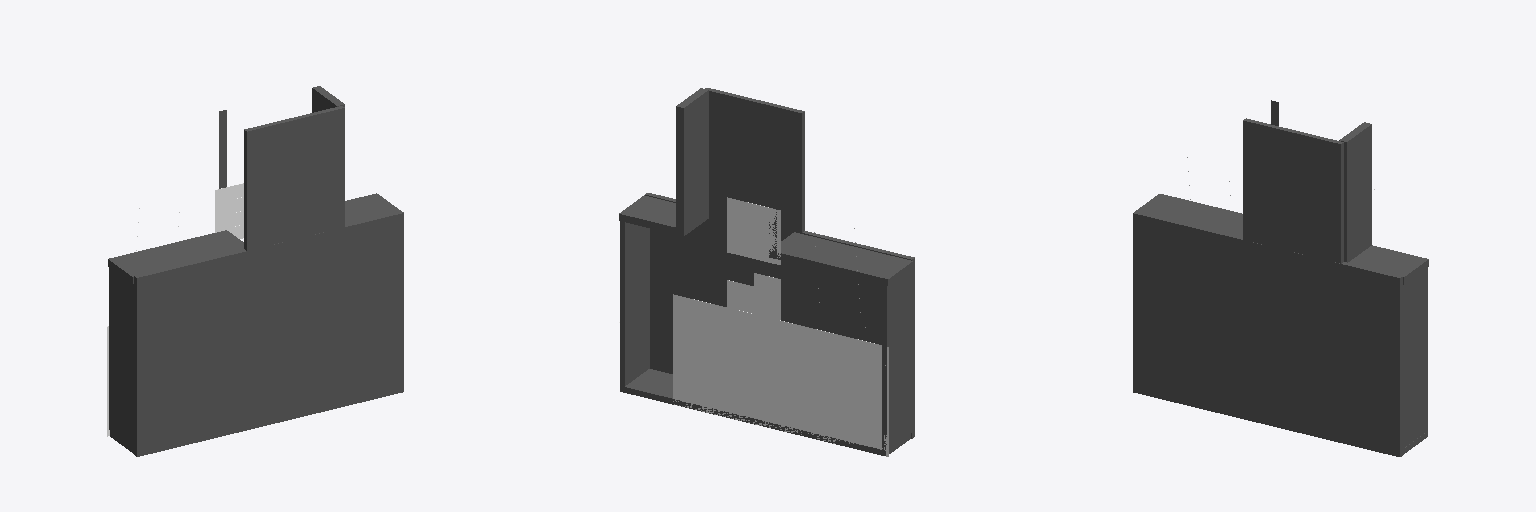
File: room1geom.obj
The picture shows the model from 3 angles: view 1: azimuth 30°, elevation 25°; view 2: azimuth 150°, elevation 25°; view 3: azimuth 330°, elevation 25°; orthographic projection.
Parts seen in each view (by area): view 1: object_8, object_7, object_1, object_4, object_5, object_325, object_6; view 2: object_8, object_7, object_1, object_3, object_6, object_4, object_2, object_5, object_325; view 3: object_8, object_7, object_3, object_6, object_4, object_5.
Part boxes in pixels (x1,y1,x2,y2): object_8: (134,211,403,456); object_7: (244,106,344,250); object_1: (109,267,133,447); object_4: (108,230,243,283); object_5: (345,193,400,223); object_325: (219,110,226,188); object_6: (312,86,344,112); object_8: (645,193,914,438); object_7: (705,88,804,236); object_1: (882,270,911,449); object_3: (620,221,649,386); object_6: (676,88,708,230); object_4: (769,232,912,285); object_2: (620,369,910,455); object_5: (619,195,708,236); object_325: (769,112,801,253); object_8: (1133,211,1402,456); object_7: (1243,118,1343,263); object_3: (1403,267,1427,448); object_6: (1339,122,1371,262); object_4: (1136,194,1242,236); object_5: (1348,245,1428,284).
Bounding box in the file's own units: 265 × 298 × 47.59.